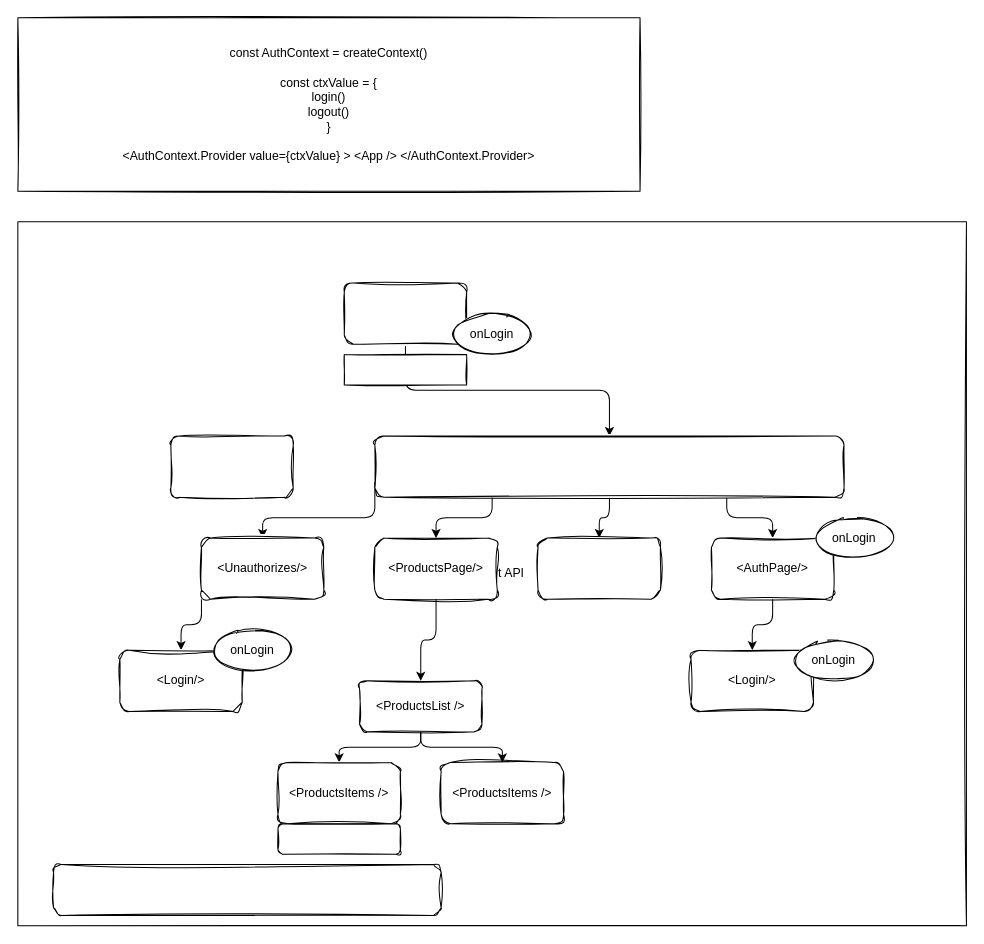
Some shapes in this 984 by 944 pixel diagram are drawn without their labels. Here are the shapes that lost their labels. From the top down, the box of each, then its label:
(343, 282, 467, 344): <App />
(343, 353, 467, 385): HandleLogou
(170, 435, 293, 497): <Header/>
(374, 435, 844, 497): <Routes/>
(537, 537, 660, 599): <SinglePorduct />
(277, 823, 400, 854): Logout BTN
(53, 863, 441, 915): const ctx = useContext ( AuthContext ); console . log ( 'ctx ===' , ctx );
